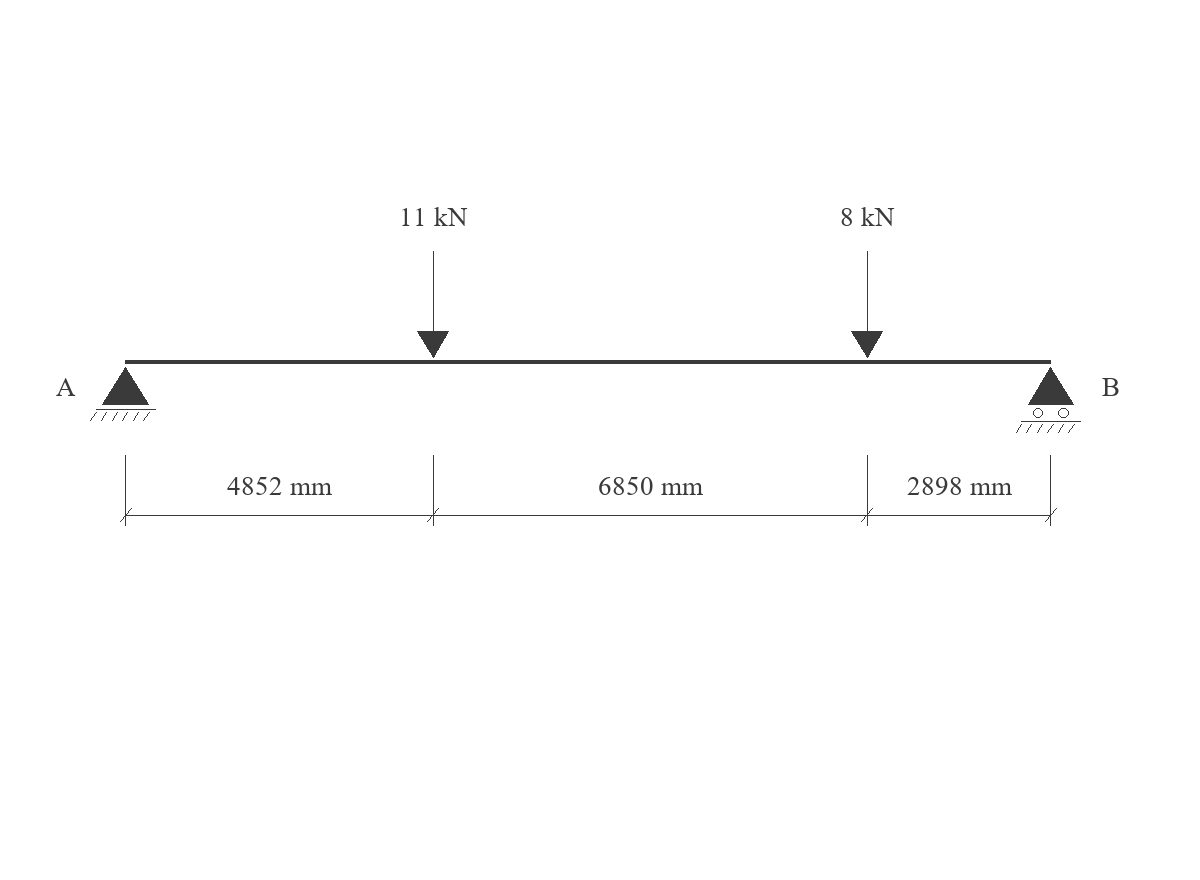pin_support: (90, 367, 156, 421)
point_load: (417, 251, 449, 358), (851, 251, 883, 358)
roller_support: (1016, 367, 1081, 433)
